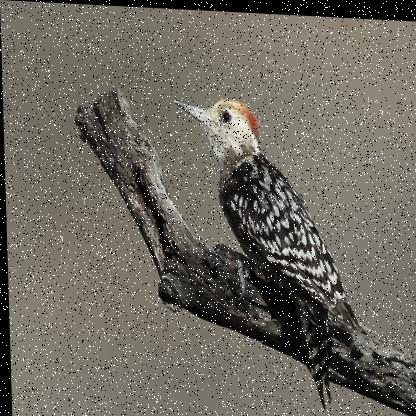Burung: (172, 94, 358, 407)
